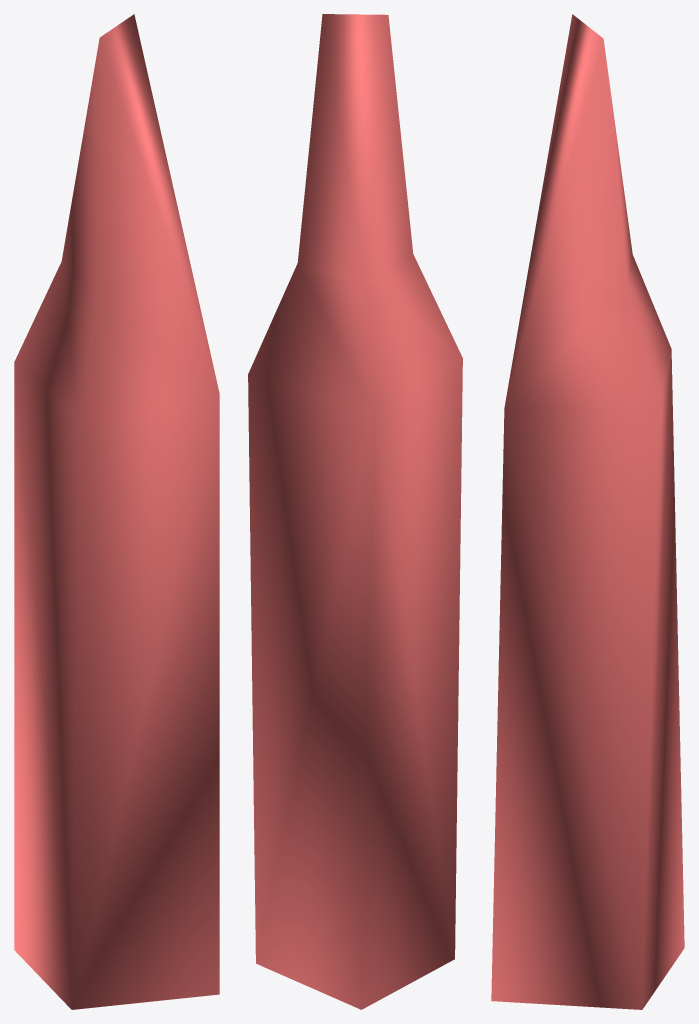
File: wine.fbx
3 renders of one model, left to right at view 1: azimuth 30°, elevation 25°; view 2: azimuth 150°, elevation 25°; view 3: azimuth 270°, elevation 25°, orthographic.
Parts seen in each view (by area): view 1: wine; view 2: wine; view 3: wine.
Boxes of the visible parts, x1,y1,x2,y2 form: wine: (14, 14, 219, 1009); wine: (248, 14, 462, 1009); wine: (491, 14, 684, 1009).
Size of the model in its own units: 3.82 by 23.88 by 4.41.
